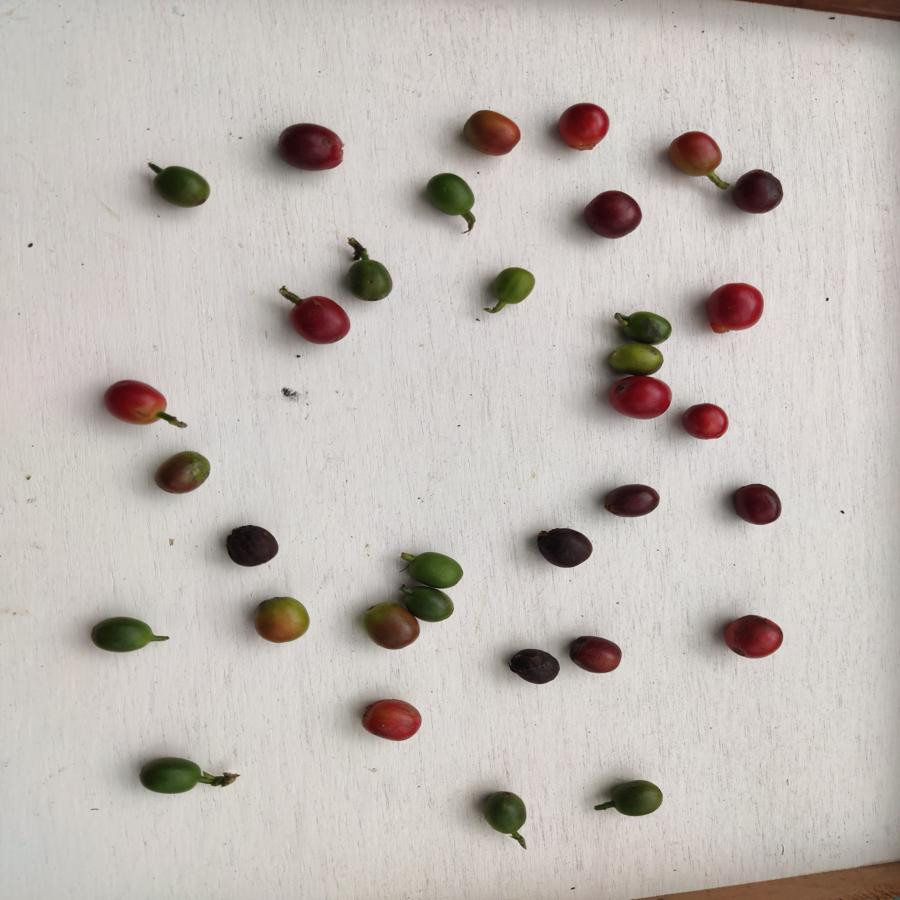Inmaduro: (89, 614, 158, 658), (345, 255, 399, 307), (476, 788, 528, 841), (148, 164, 212, 207), (424, 171, 483, 217), (140, 755, 201, 799), (404, 545, 464, 589), (616, 304, 673, 347), (607, 780, 668, 817), (399, 585, 458, 623)
Maduro: (702, 280, 769, 338), (288, 293, 350, 350), (102, 377, 171, 428), (724, 612, 785, 661), (363, 697, 425, 742), (611, 376, 671, 421), (559, 102, 611, 150), (680, 400, 732, 446)
Pinton: (251, 595, 314, 645), (462, 109, 522, 159), (670, 126, 723, 179), (367, 602, 419, 652), (155, 450, 211, 496), (608, 341, 662, 379), (491, 266, 536, 304)
Sobremaduro: (276, 122, 346, 172), (581, 188, 642, 239), (727, 165, 785, 216), (731, 479, 784, 529), (597, 481, 663, 521), (534, 527, 595, 569), (505, 644, 561, 688), (224, 523, 281, 566), (568, 631, 623, 673)
